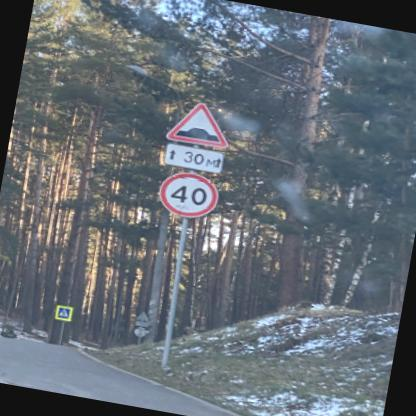crosswalk: (55, 306, 69, 320)
speedlimit: (155, 167, 219, 220)
